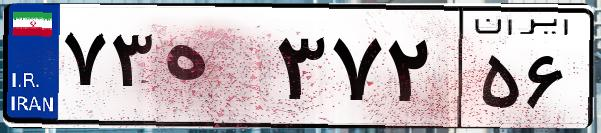2: (385, 28, 445, 110)
3: (270, 28, 330, 110), (110, 28, 158, 98)
5: (475, 38, 525, 113)
6: (525, 38, 570, 115)
7: (330, 28, 385, 110), (57, 26, 110, 100)
ه: (158, 20, 270, 120)
